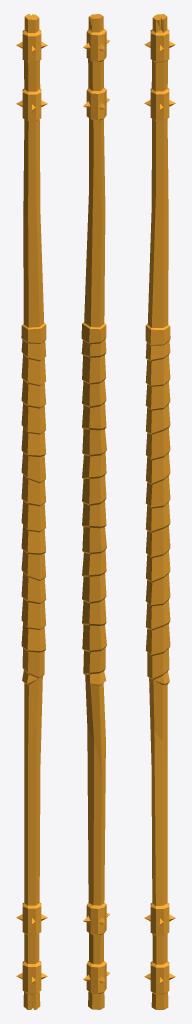
File: SM_Quartedstaff_B_Fantasy.fbx
The picture shows the model from 3 angles, left to right: view 1: azimuth 90°, elevation 25°; view 2: azimuth 210°, elevation 25°; view 3: azimuth 270°, elevation 25°; orthographic projection.
Visible parts, largest first — view 1: quartedstaff-b-fantasy; view 2: quartedstaff-b-fantasy; view 3: quartedstaff-b-fantasy.
Part boxes in pixels (<box>): quartedstaff-b-fantasy: <box>16,14,47,1009</box>; quartedstaff-b-fantasy: <box>81,14,109,1009</box>; quartedstaff-b-fantasy: <box>144,14,175,1009</box>.
Size of the model in its own units: 0.064 by 2.19 by 0.064.
